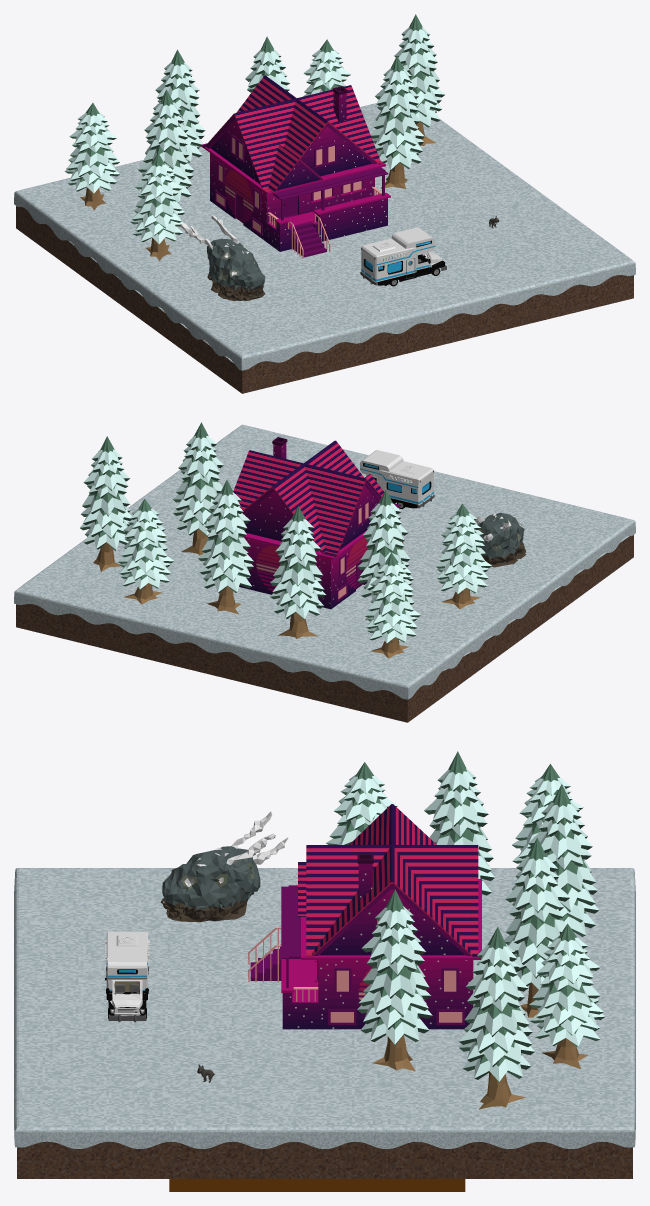
3 renders of one model, top to bottom at view 1: azimuth 30°, elevation 25°; view 2: azimuth 150°, elevation 25°; view 3: azimuth 270°, elevation 25°, orthographic. The views are drawn at different scales.
Visible parts, largest first — view 1: Cube.003, Cube.156, VEHICLES_CAMPER, OBJRANDOM_METEORITE; view 2: Cube.003, Cube.156, VEHICLES_CAMPER, OBJRANDOM_METEORITE; view 3: Cube.003, Cube.156, OBJRANDOM_METEORITE, UNDERGROUND_ART_PIECE_VAN_GOGH, VEHICLES_CAMPER.
Part boxes in pixels (x1=…): Cube.003: x1=14, y1=14, x2=635, y2=393; Cube.156: x1=201, y1=75, x2=390, y2=258; VEHICLES_CAMPER: x1=360, y1=227, x2=446, y2=286; OBJRANDOM_METEORITE: x1=180, y1=215, x2=265, y2=301; Cube.003: x1=14, y1=422, x2=635, y2=722; Cube.156: x1=233, y1=437, x2=403, y2=609; VEHICLES_CAMPER: x1=360, y1=450, x2=434, y2=508; OBJRANDOM_METEORITE: x1=474, y1=512, x2=526, y2=567; Cube.003: x1=14, y1=751, x2=635, y2=1178; Cube.156: x1=248, y1=804, x2=481, y2=1029; OBJRANDOM_METEORITE: x1=160, y1=811, x2=288, y2=922; UNDERGROUND_ART_PIECE_VAN_GOGH: x1=169, y1=1179, x2=465, y2=1191; VEHICLES_CAMPER: x1=105, y1=931, x2=149, y2=1022.
Size of the model in its own units: 4040 by 1818 by 4040.
33 materials, 6 textured.
